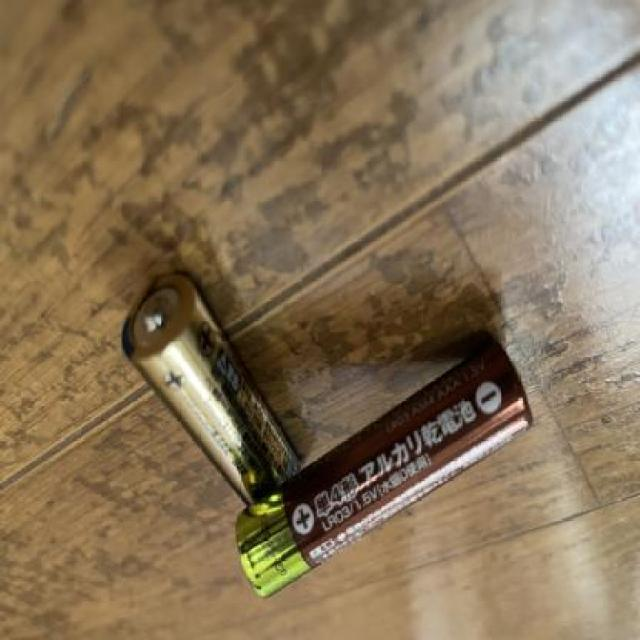hazardous waste: (232, 336, 537, 602), (116, 266, 302, 528)
